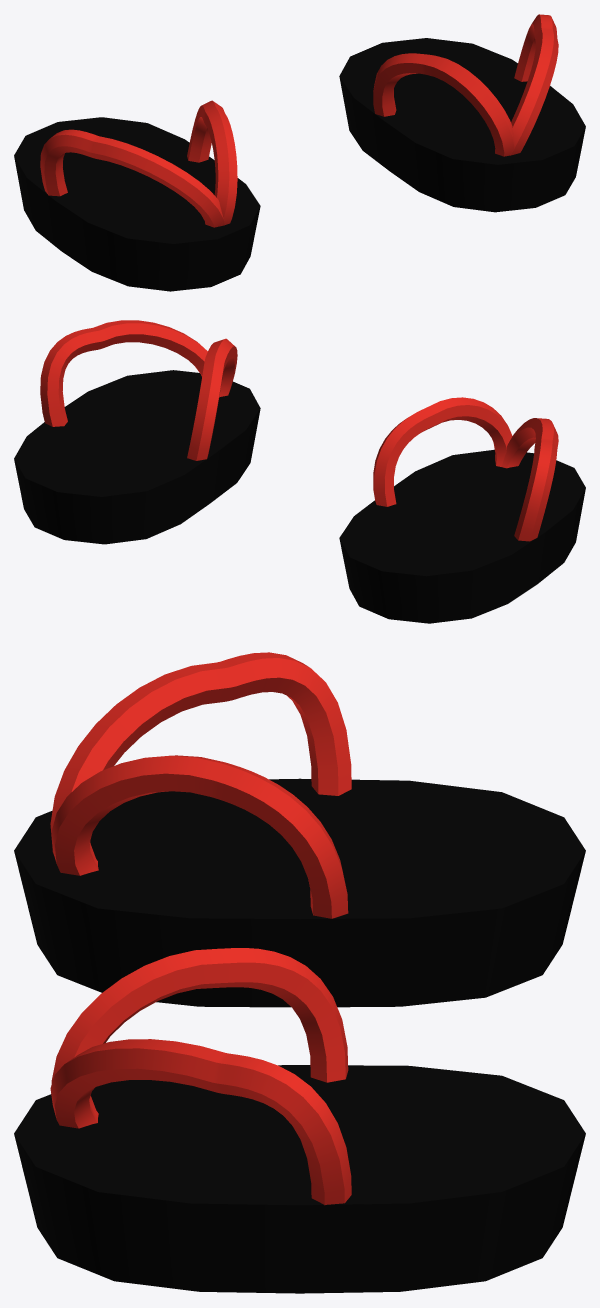
File: shoes_kimono.fbx
3 renders of one model, top to bottom at view 1: azimuth 30°, elevation 25°; view 2: azimuth 150°, elevation 25°; view 3: azimuth 270°, elevation 25°, orthographic. The views are drawn at different scales.
Visible parts, largest first — view 1: shoes; view 2: shoes; view 3: shoes.
Boxes of the visible parts, bbox=[...] form: shoes: bbox=[14, 14, 585, 291]; shoes: bbox=[14, 320, 585, 623]; shoes: bbox=[14, 652, 585, 1293].
Bounding box in the file's own units: 0.576 × 0.1422 × 0.3175.
